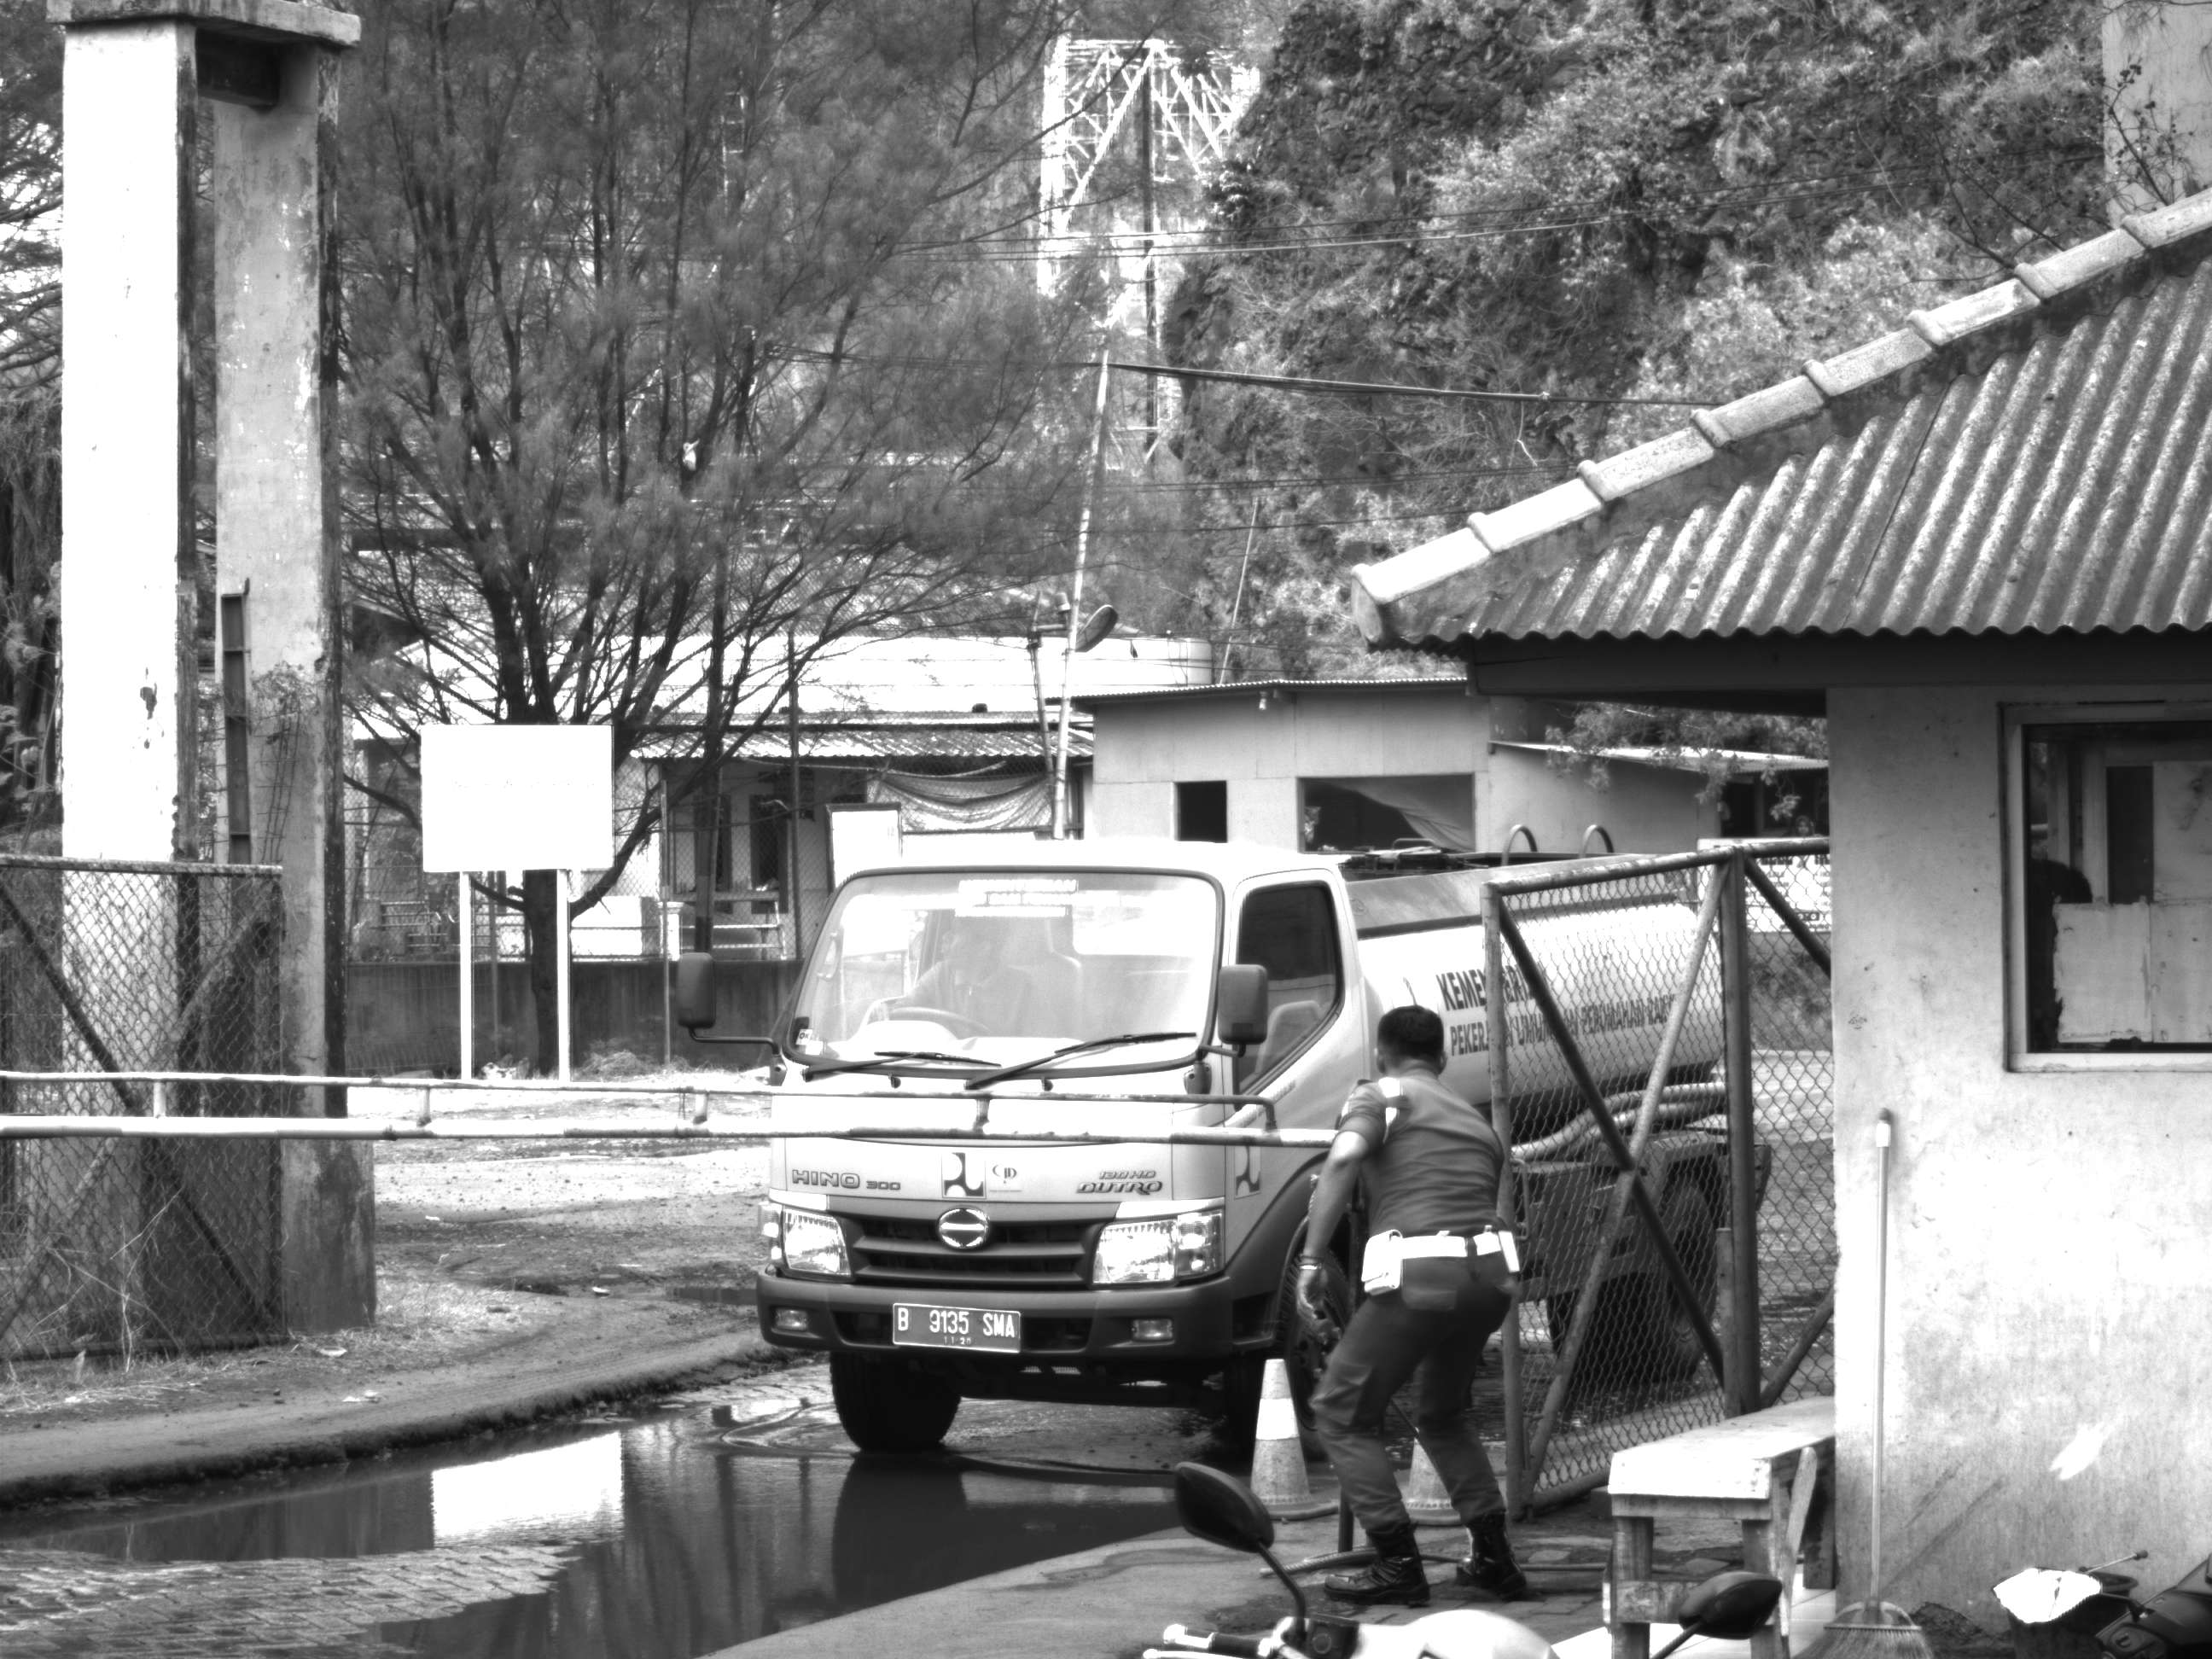day_truck_front: (738, 841, 1373, 1468)
plate: (889, 1300, 1026, 1357)
